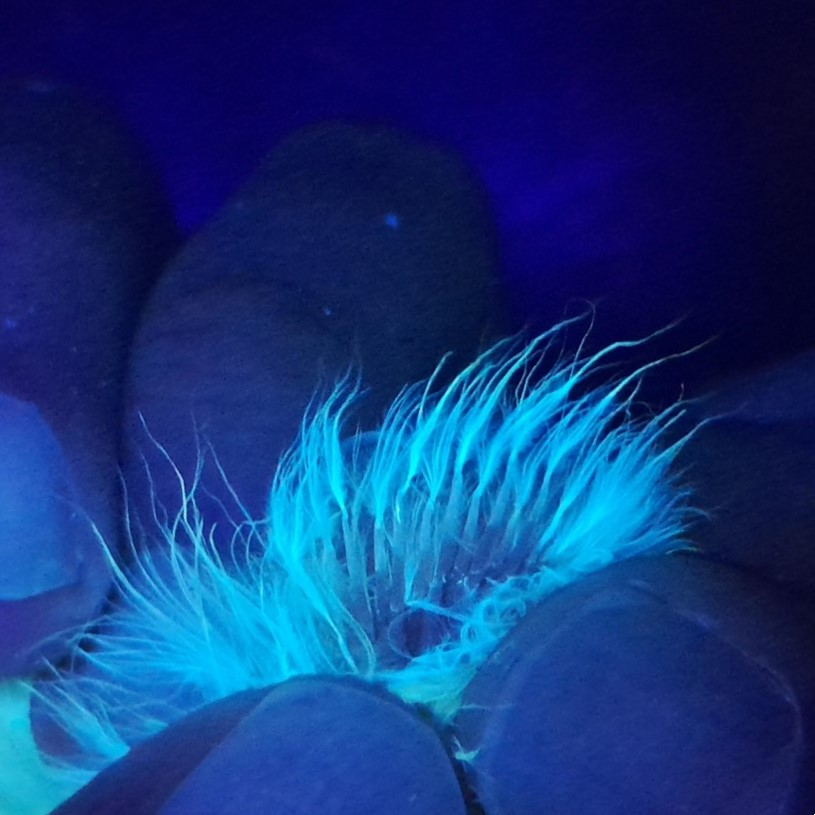male: (323, 455, 617, 686)
